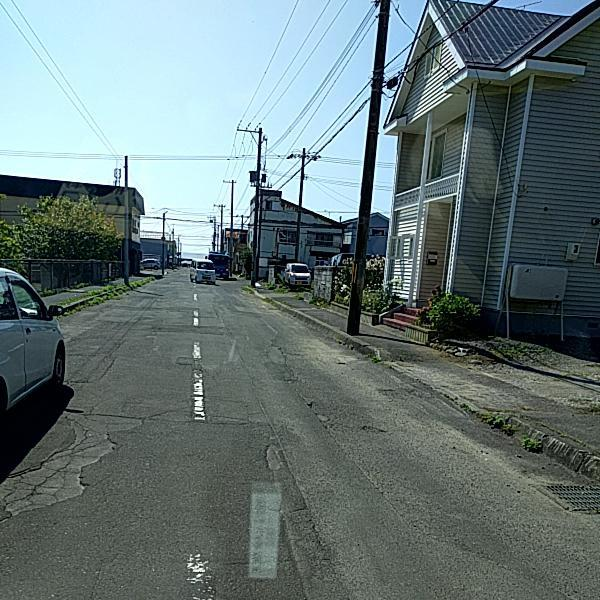D40: (4, 410, 143, 516), (256, 439, 288, 473)
D44: (179, 339, 222, 427)
